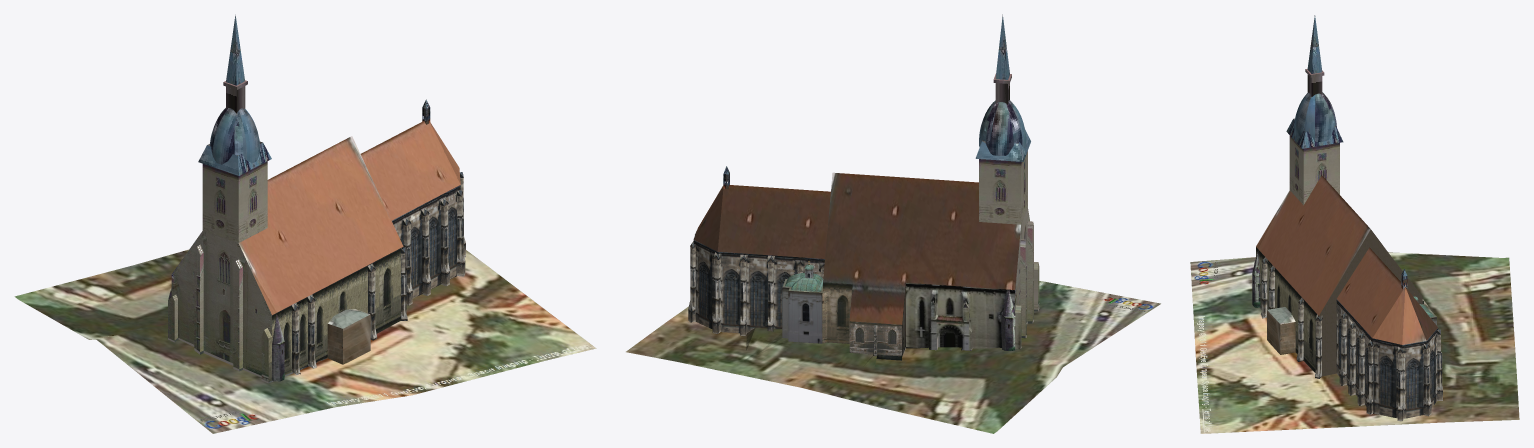
Rendered from svMartin.glb.
3 views of the same model, side by side, from view 1: azimuth 30°, elevation 25°; view 2: azimuth 150°, elevation 25°; view 3: azimuth 270°, elevation 25° (orthographic). The views are drawn at different scales.
Visible parts, largest first — view 1: svMartin; view 2: svMartin; view 3: svMartin.
Part boxes in pixels (left/top/right/bottom): svMartin: left=14, top=14, right=596, bottom=433; svMartin: left=626, top=14, right=1160, bottom=433; svMartin: left=1190, top=15, right=1519, bottom=433.
Bounding box in the file's own units: 1.29 × 1.1 × 1.1.
34 materials, 32 textured.
